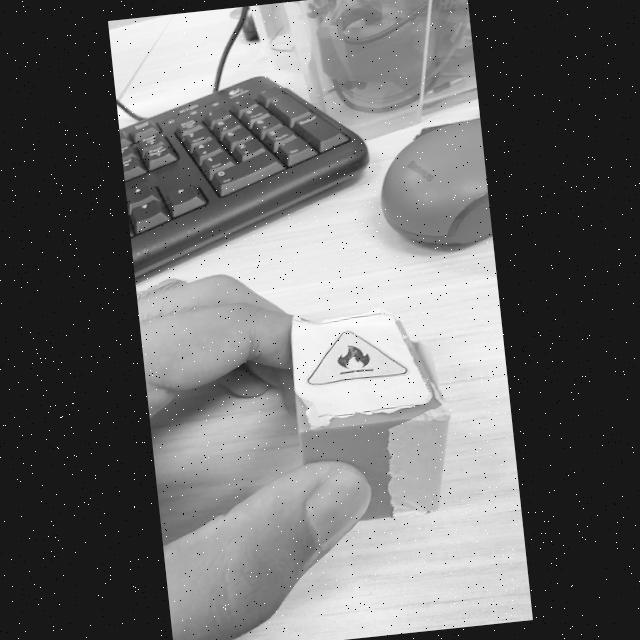Fire: (307, 331, 407, 384)
